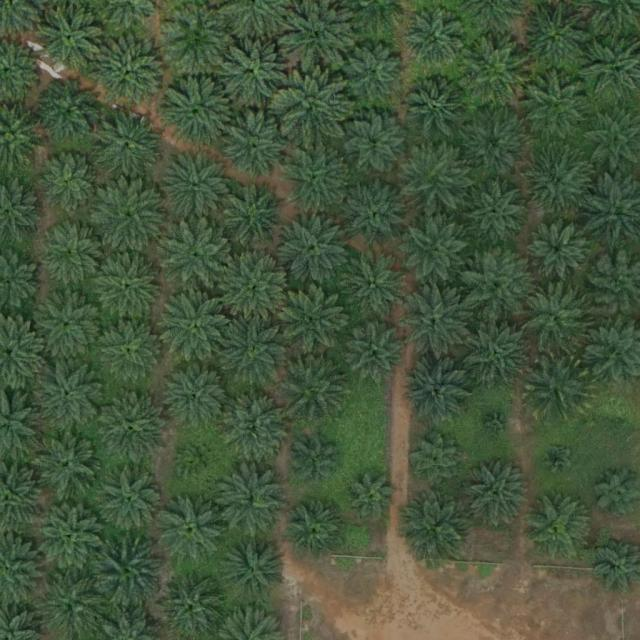Healthy: (277, 72, 348, 143), (522, 73, 593, 144), (524, 148, 595, 219), (220, 391, 291, 462), (161, 151, 232, 222), (523, 352, 593, 423), (462, 41, 532, 112), (459, 109, 529, 180), (522, 2, 592, 73), (402, 287, 472, 358), (404, 359, 474, 430), (338, 247, 408, 318), (281, 145, 351, 216), (223, 111, 293, 182), (223, 254, 293, 325), (219, 314, 290, 384), (162, 292, 232, 363), (93, 110, 163, 181), (96, 182, 167, 252), (97, 253, 167, 324), (98, 394, 168, 465), (35, 292, 105, 363), (37, 361, 107, 432), (34, 429, 104, 500), (37, 503, 107, 574), (95, 539, 165, 610), (157, 495, 227, 566), (219, 534, 290, 604), (404, 492, 474, 563), (462, 461, 532, 532), (524, 493, 594, 564), (95, 38, 165, 108), (163, 4, 233, 74), (164, 75, 234, 145), (221, 34, 291, 104), (522, 284, 592, 354), (459, 250, 529, 320), (462, 317, 532, 387), (399, 143, 469, 213), (402, 217, 472, 287), (279, 215, 349, 285), (282, 285, 352, 355), (282, 352, 352, 422), (164, 224, 234, 294), (217, 469, 287, 539), (37, 80, 100, 143), (407, 79, 470, 142), (527, 219, 590, 282), (345, 323, 408, 386), (344, 41, 406, 104), (345, 116, 407, 179), (404, 9, 467, 71), (466, 183, 528, 246), (345, 181, 407, 244), (226, 184, 288, 247), (38, 154, 100, 217), (41, 225, 103, 288), (101, 470, 163, 533), (167, 365, 229, 427), (100, 322, 162, 384), (289, 504, 344, 559), (411, 435, 465, 490), (294, 441, 341, 489), (348, 473, 395, 520)
Small: (180, 443, 219, 482), (483, 409, 514, 441), (542, 444, 573, 476), (603, 405, 634, 436)
